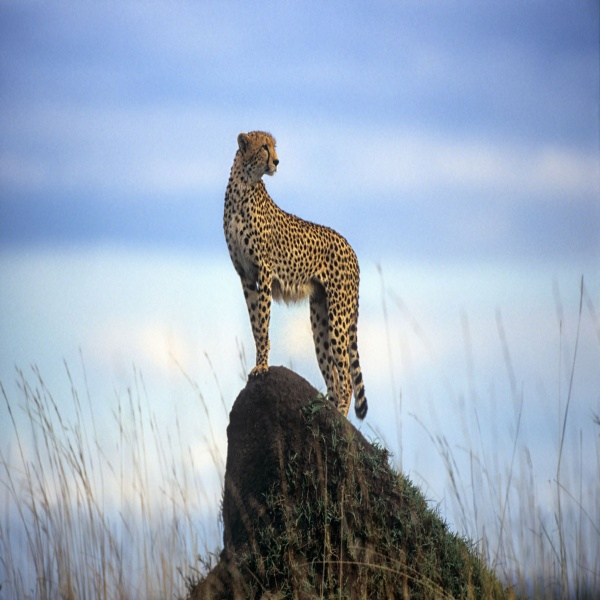Cheetah: (221, 128, 377, 423)
